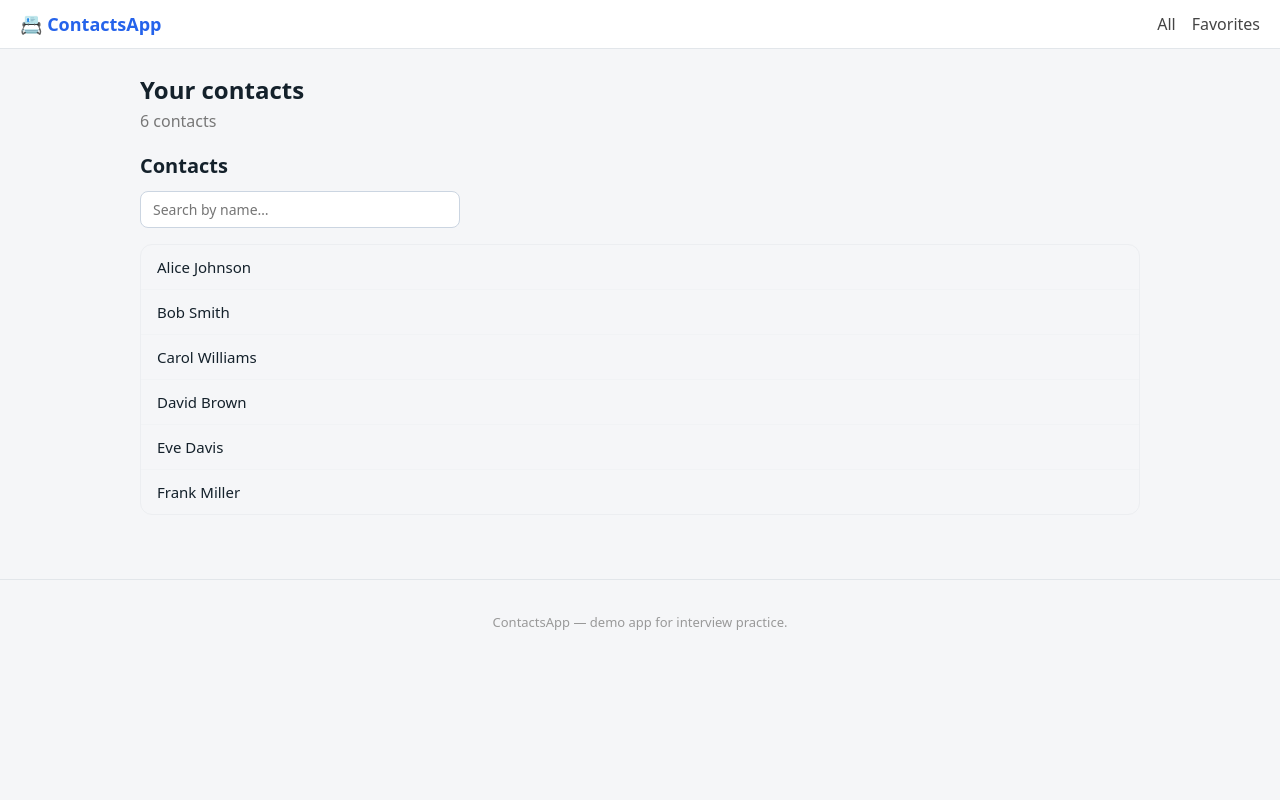
Test: m08 · ContactsApp — app renders › navigates to the Favorites route via the navbar
The image size is (1280, 800).
Click the link with test id "nav-favorites" at (1226, 24), box [1192,13,1260,35]
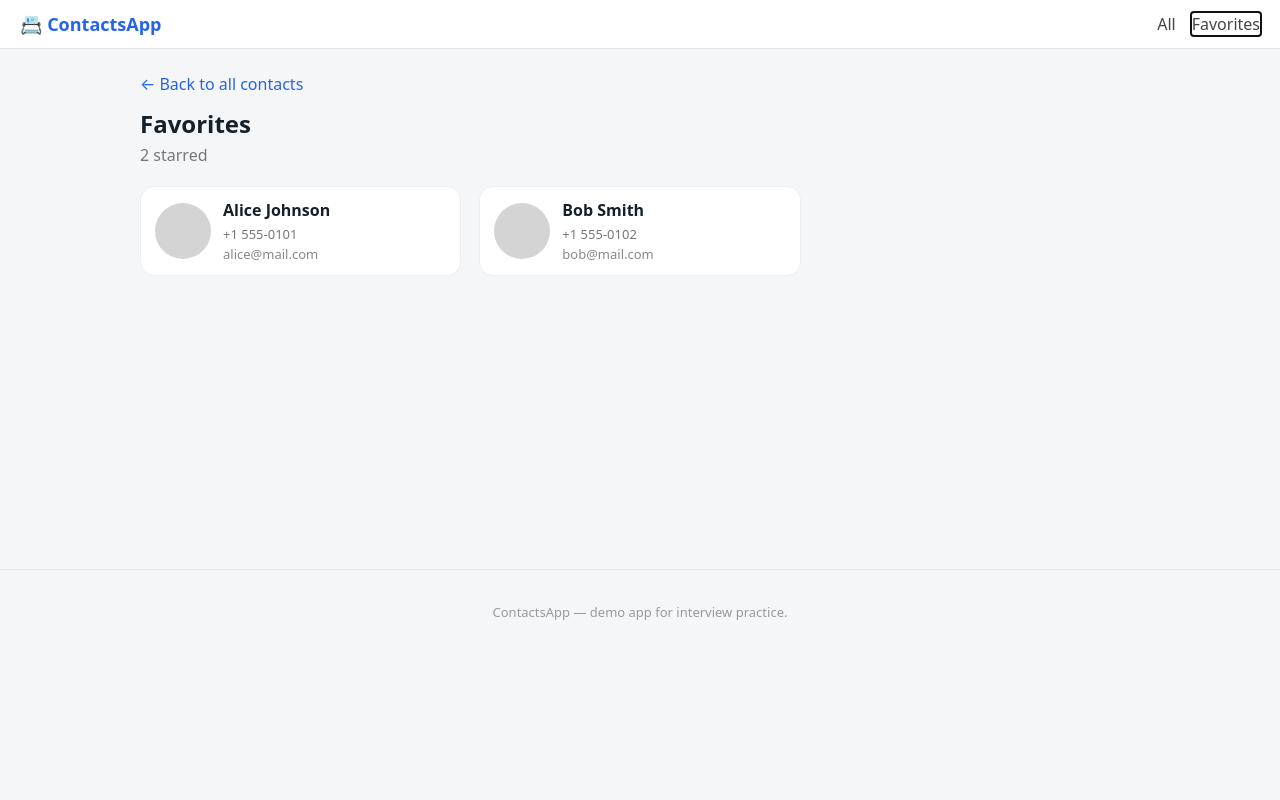
Check: the element with test id "favorites-page" is shown, box [140,73,801,276]
